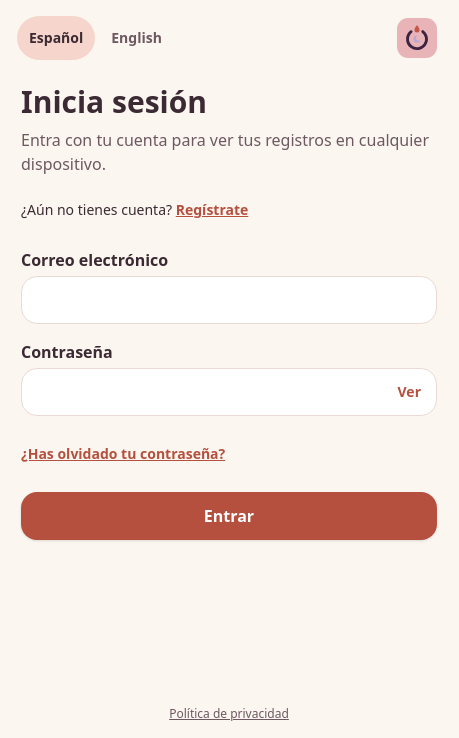
Test: Inicio de sesión › recuperar la contraseña envía el enlace sin decir si el correo existe
Click the button "¿Has olvidado tu contraseña?" at (123, 454), box x1=21 y1=432 x2=225 y2=476
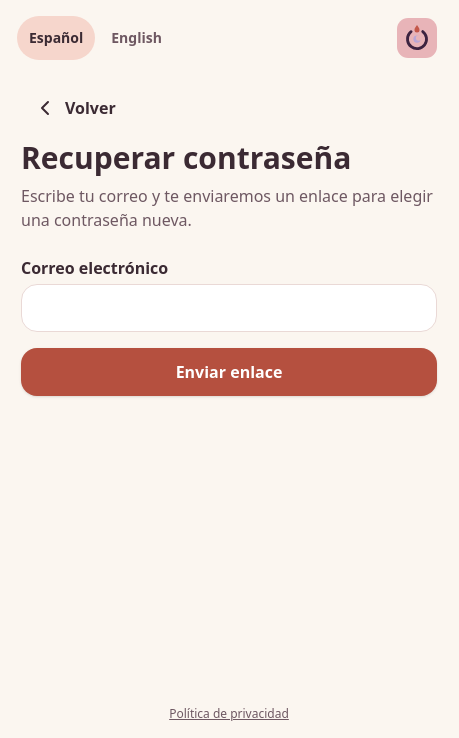
Type "ana@correo.com" into the field labelled "Correo electrónico" at (229, 308), box x1=21 y1=284 x2=437 y2=332
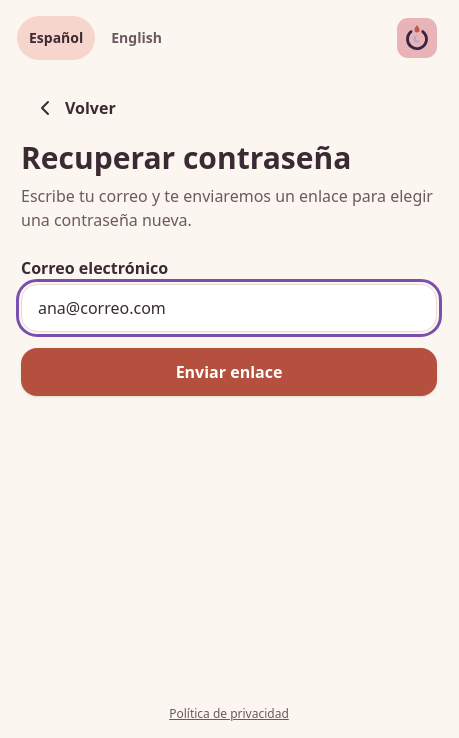
Click the button "Enviar enlace" at (229, 372), box x1=21 y1=348 x2=437 y2=396
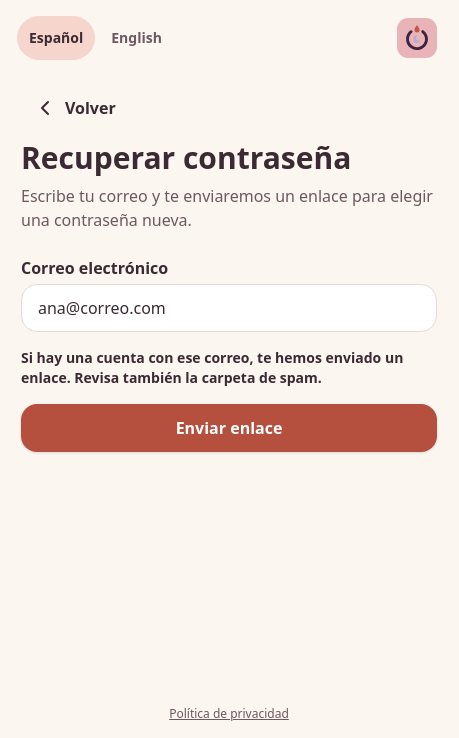
Now the text "Si hay una cuenta con ese correo" is shown, box x1=21 y1=348 x2=403 y2=387
